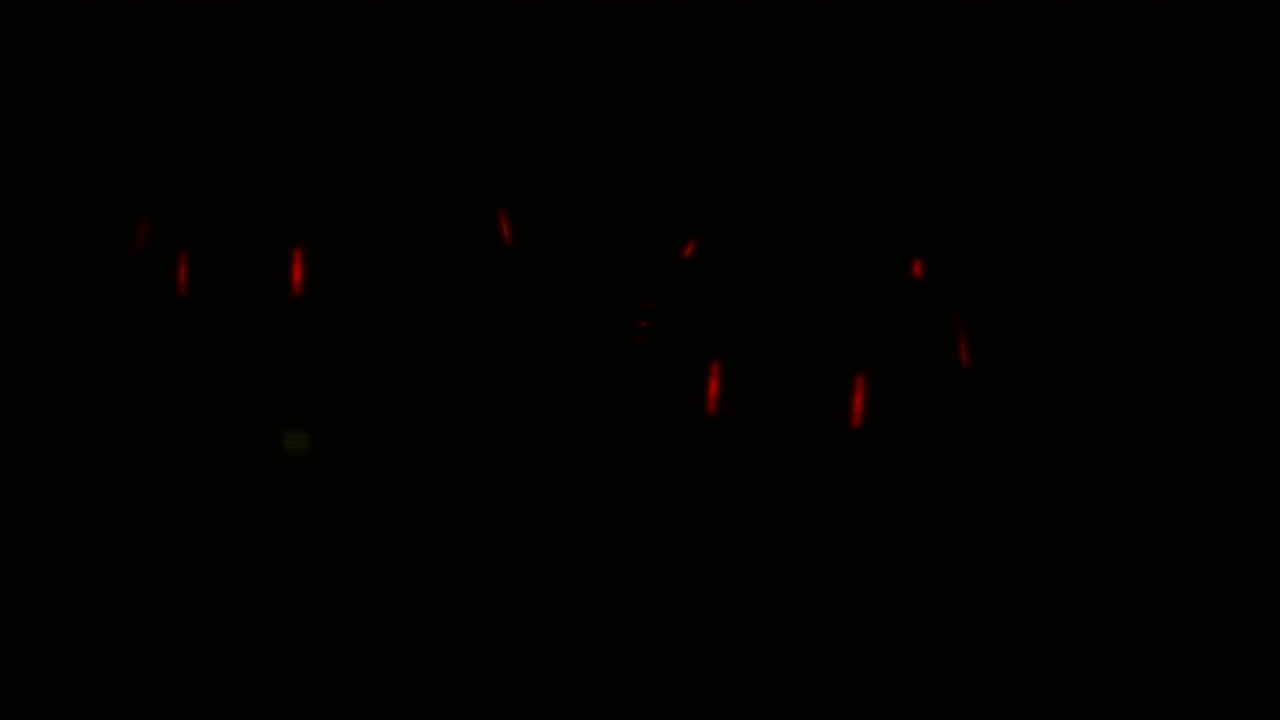pair1: (701, 346, 869, 429), (170, 239, 304, 297)
